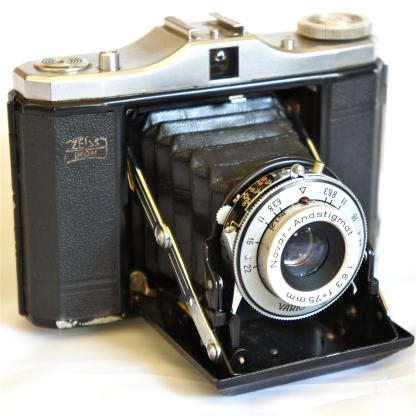Camera: (6, 14, 416, 400)
